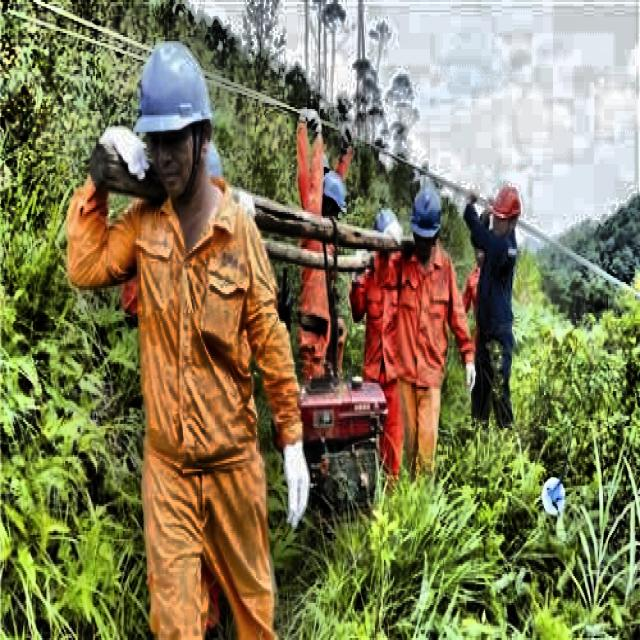helmet: (132, 35, 219, 210), (407, 177, 444, 253), (490, 181, 524, 237), (316, 173, 350, 226)
